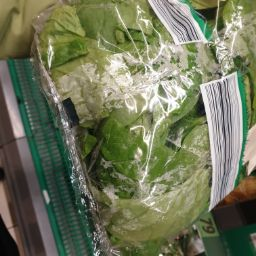Spinach: (10, 6, 187, 256), (65, 34, 185, 205)
